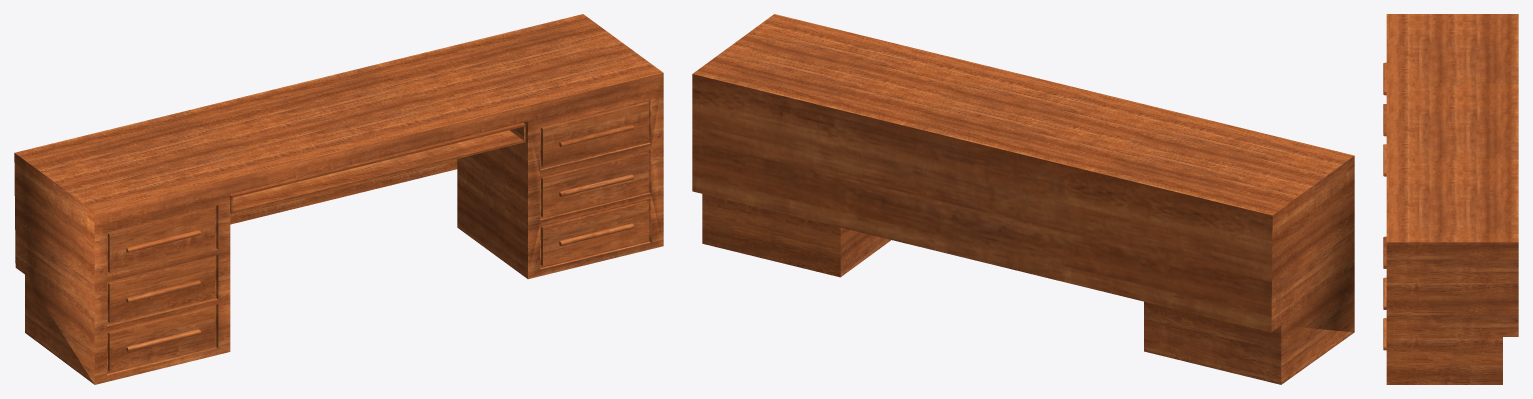
File: Desk.fbx
3 views of the same model, side by side, from view 1: azimuth 30°, elevation 25°; view 2: azimuth 150°, elevation 25°; view 3: azimuth 270°, elevation 25° (orthographic). The views are drawn at different scales.
Parts seen in each view (by area): view 1: Desk_001; view 2: Desk_001; view 3: Desk_001.
Part boxes in pixels (x1,y1,x2,y2): Desk_001: (14, 14, 663, 384); Desk_001: (692, 14, 1354, 384); Desk_001: (1383, 14, 1518, 384).
Size of the model in its own units: 837 by 244 by 210.
